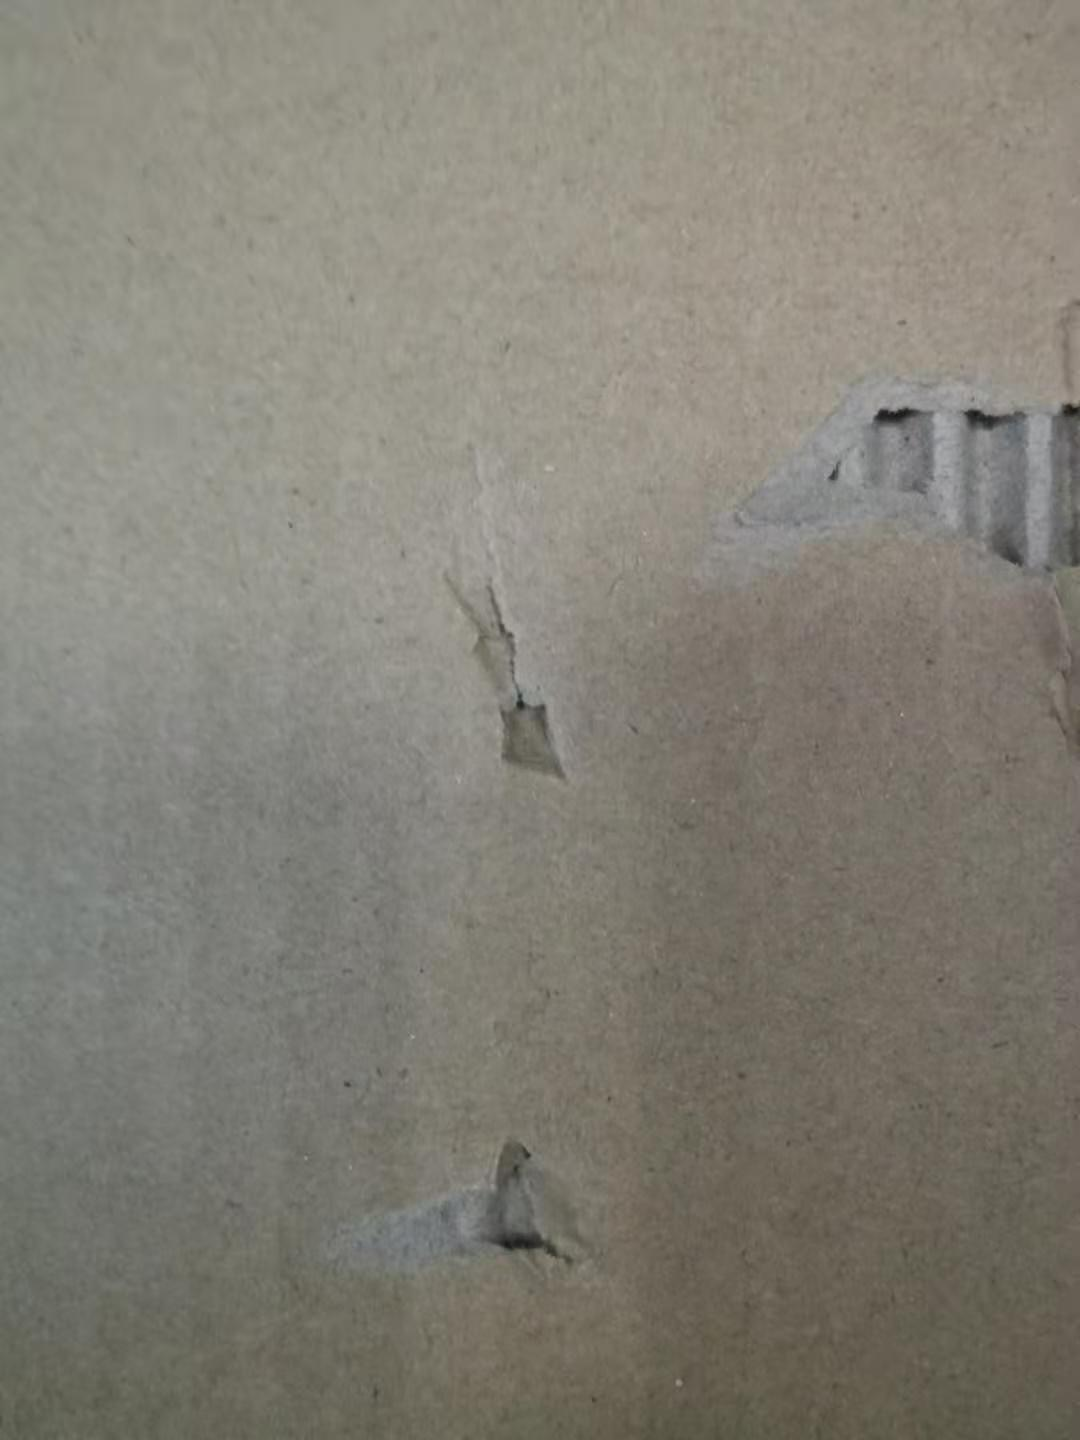defect: (672, 278, 1080, 801), (295, 1112, 648, 1319), (415, 452, 602, 812)
